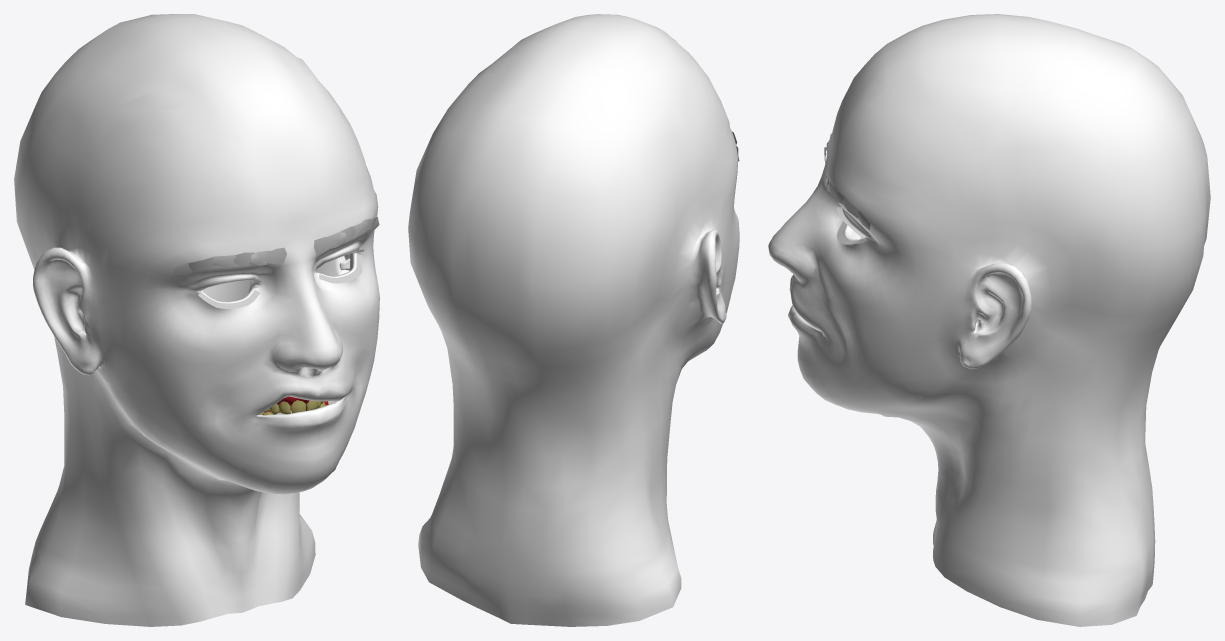
File: mouthUpperUpRight.obj
3 renders of one model, left to right at view 1: azimuth 30°, elevation 25°; view 2: azimuth 150°, elevation 25°; view 3: azimuth 270°, elevation 25°, orthographic. The views are drawn at different scales.
Parts seen in each view (by area): view 1: FaceMesh_Plane.003; view 2: FaceMesh_Plane.003; view 3: FaceMesh_Plane.003.
Boxes of the visible parts, x1=… form: FaceMesh_Plane.003: x1=14, y1=14, x2=379, y2=626; FaceMesh_Plane.003: x1=408, y1=14, x2=739, y2=626; FaceMesh_Plane.003: x1=768, y1=14, x2=1210, y2=626.
Size of the model in its own units: 1.54 by 2.71 by 1.94.
5 materials, 1 textured.
